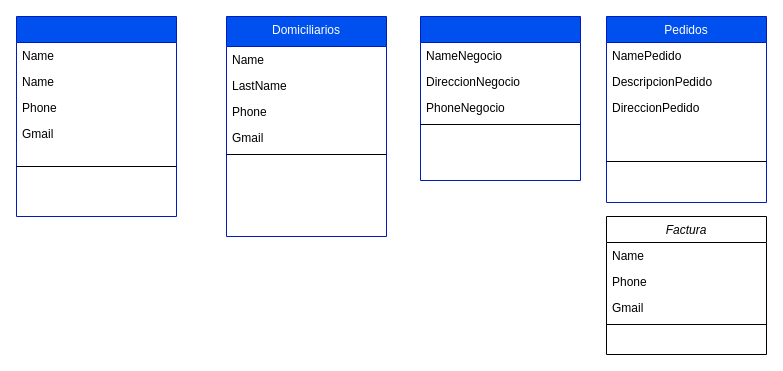
Some shapes in this 783 by 371 pixel diagram are drawn without their labels. The box of each missing label's shape, as (x1, y1, x2, y2) in pixels:
Clientes: (16, 16, 176, 216)
Negocios: (420, 16, 580, 180)
